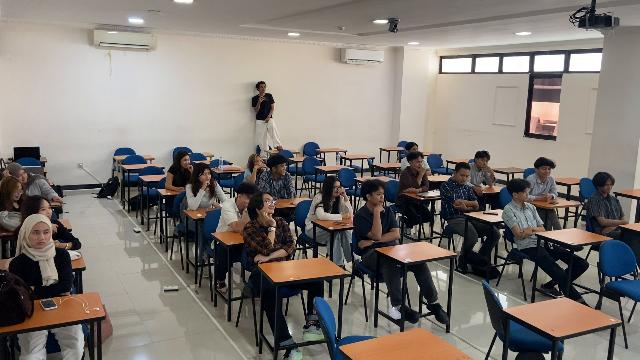bingung: (32, 228, 50, 248), (39, 201, 53, 219), (263, 195, 275, 214), (372, 188, 384, 206), (458, 170, 469, 185), (539, 165, 551, 178), (332, 182, 342, 197), (603, 179, 613, 194), (200, 170, 211, 182), (18, 170, 29, 182), (478, 156, 488, 169), (181, 157, 191, 169), (414, 157, 423, 170), (519, 190, 529, 201), (278, 162, 286, 175), (254, 158, 263, 164)
